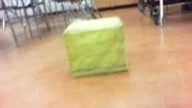cube: (62, 15, 128, 77)
